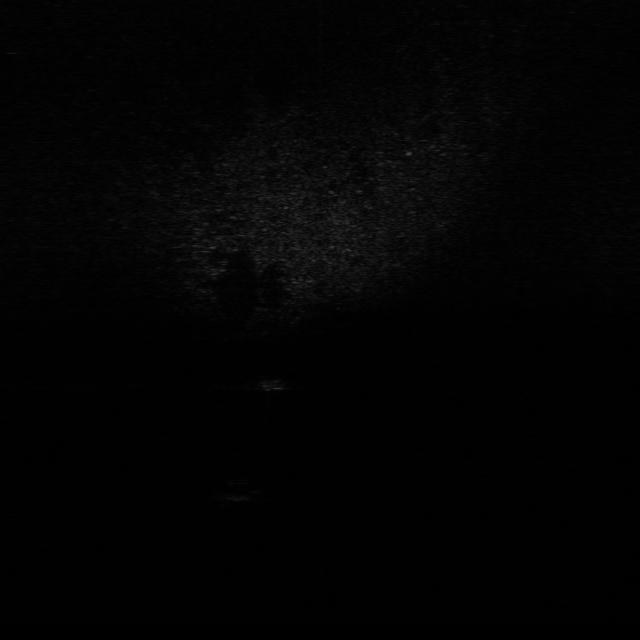ball: (217, 471, 262, 502)
cube: (257, 373, 299, 394)
